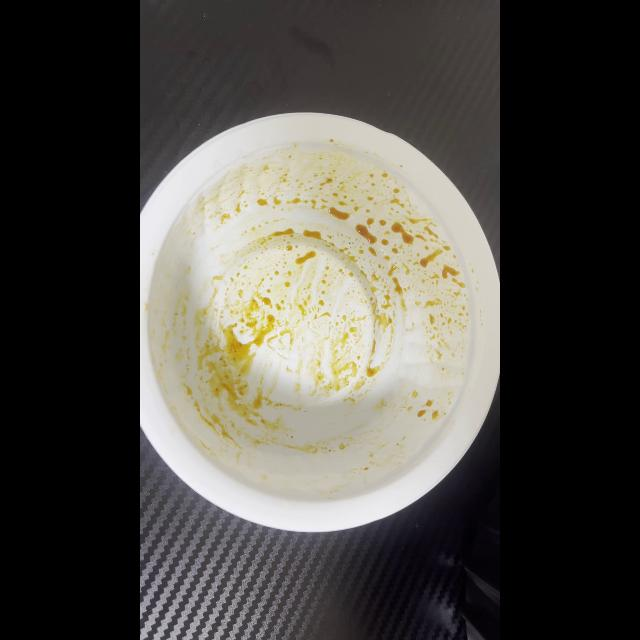dirty: (140, 113, 496, 524)
